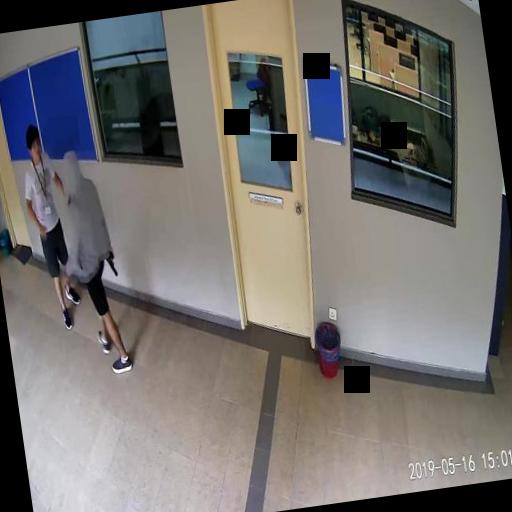Handgun: (102, 249, 116, 276)
